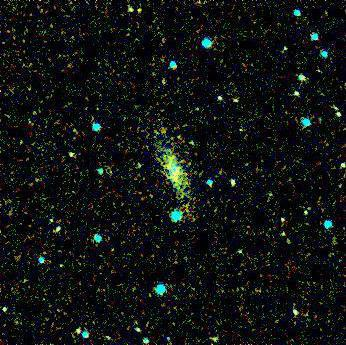star: (57, 142, 87, 172)
